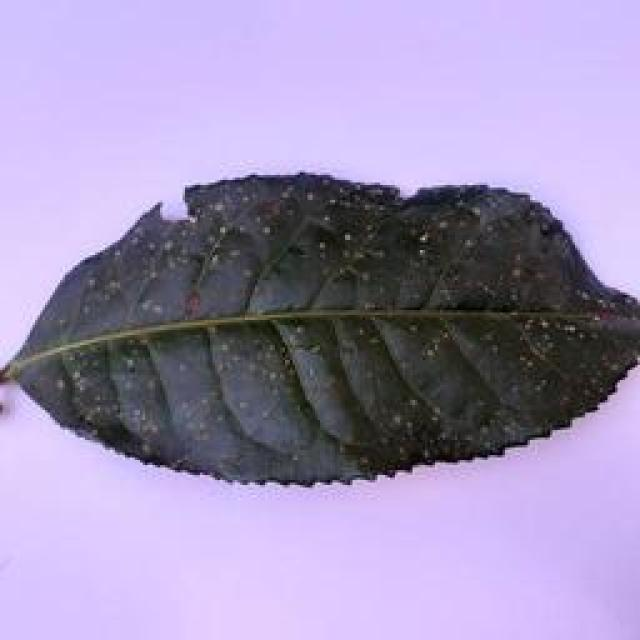Algal Leaf Spot: (2, 137, 640, 503)
